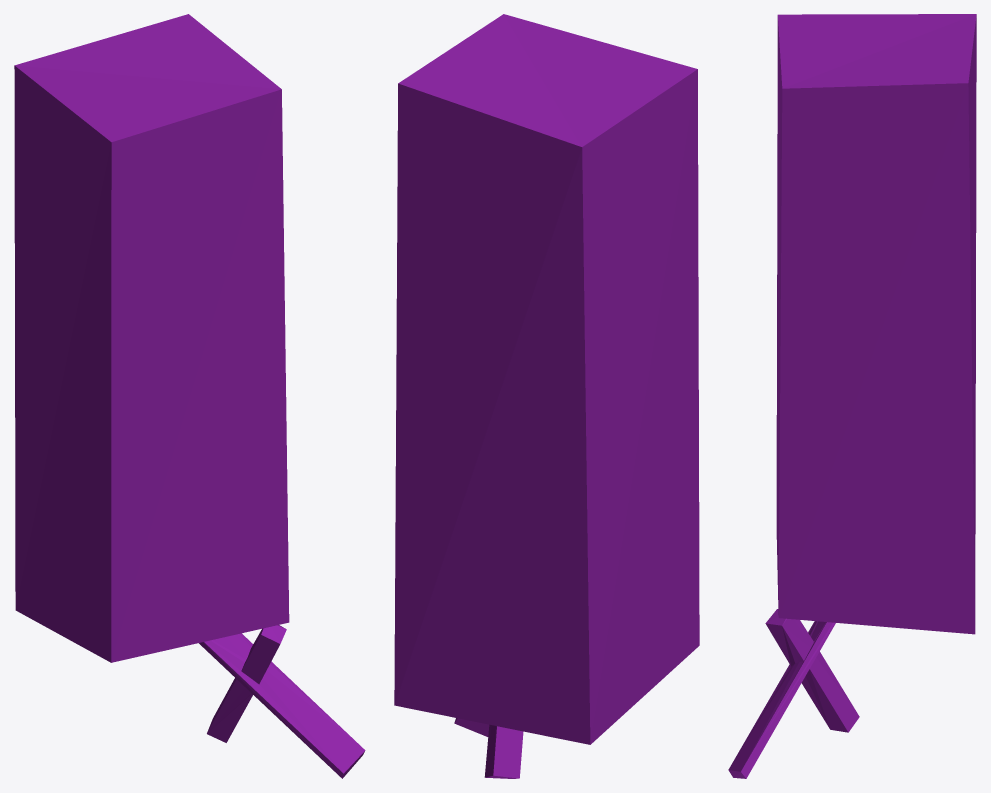
The picture shows the model from 3 angles, left to right: view 1: azimuth 30°, elevation 25°; view 2: azimuth 150°, elevation 25°; view 3: azimuth 270°, elevation 25°; orthographic projection. The views are drawn at different scales.
Visible parts, largest first — view 1: 804_Cube.3240; view 2: 804_Cube.3240; view 3: 804_Cube.3240.
Boxes of the visible parts, x1,y1,x2,y2 form: 804_Cube.3240: (14,14,365,778); 804_Cube.3240: (394,14,699,778); 804_Cube.3240: (728,14,976,778).
Size of the model in its own units: 5.47 by 15.16 by 5.03.
